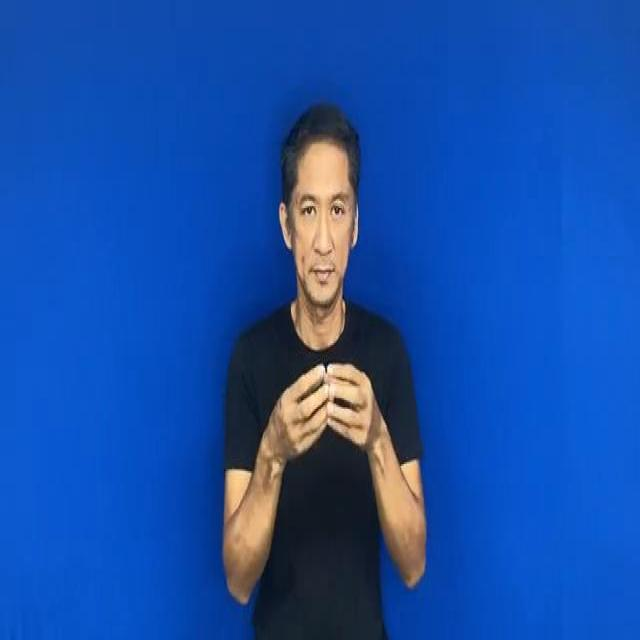egg: (265, 340, 388, 456)
